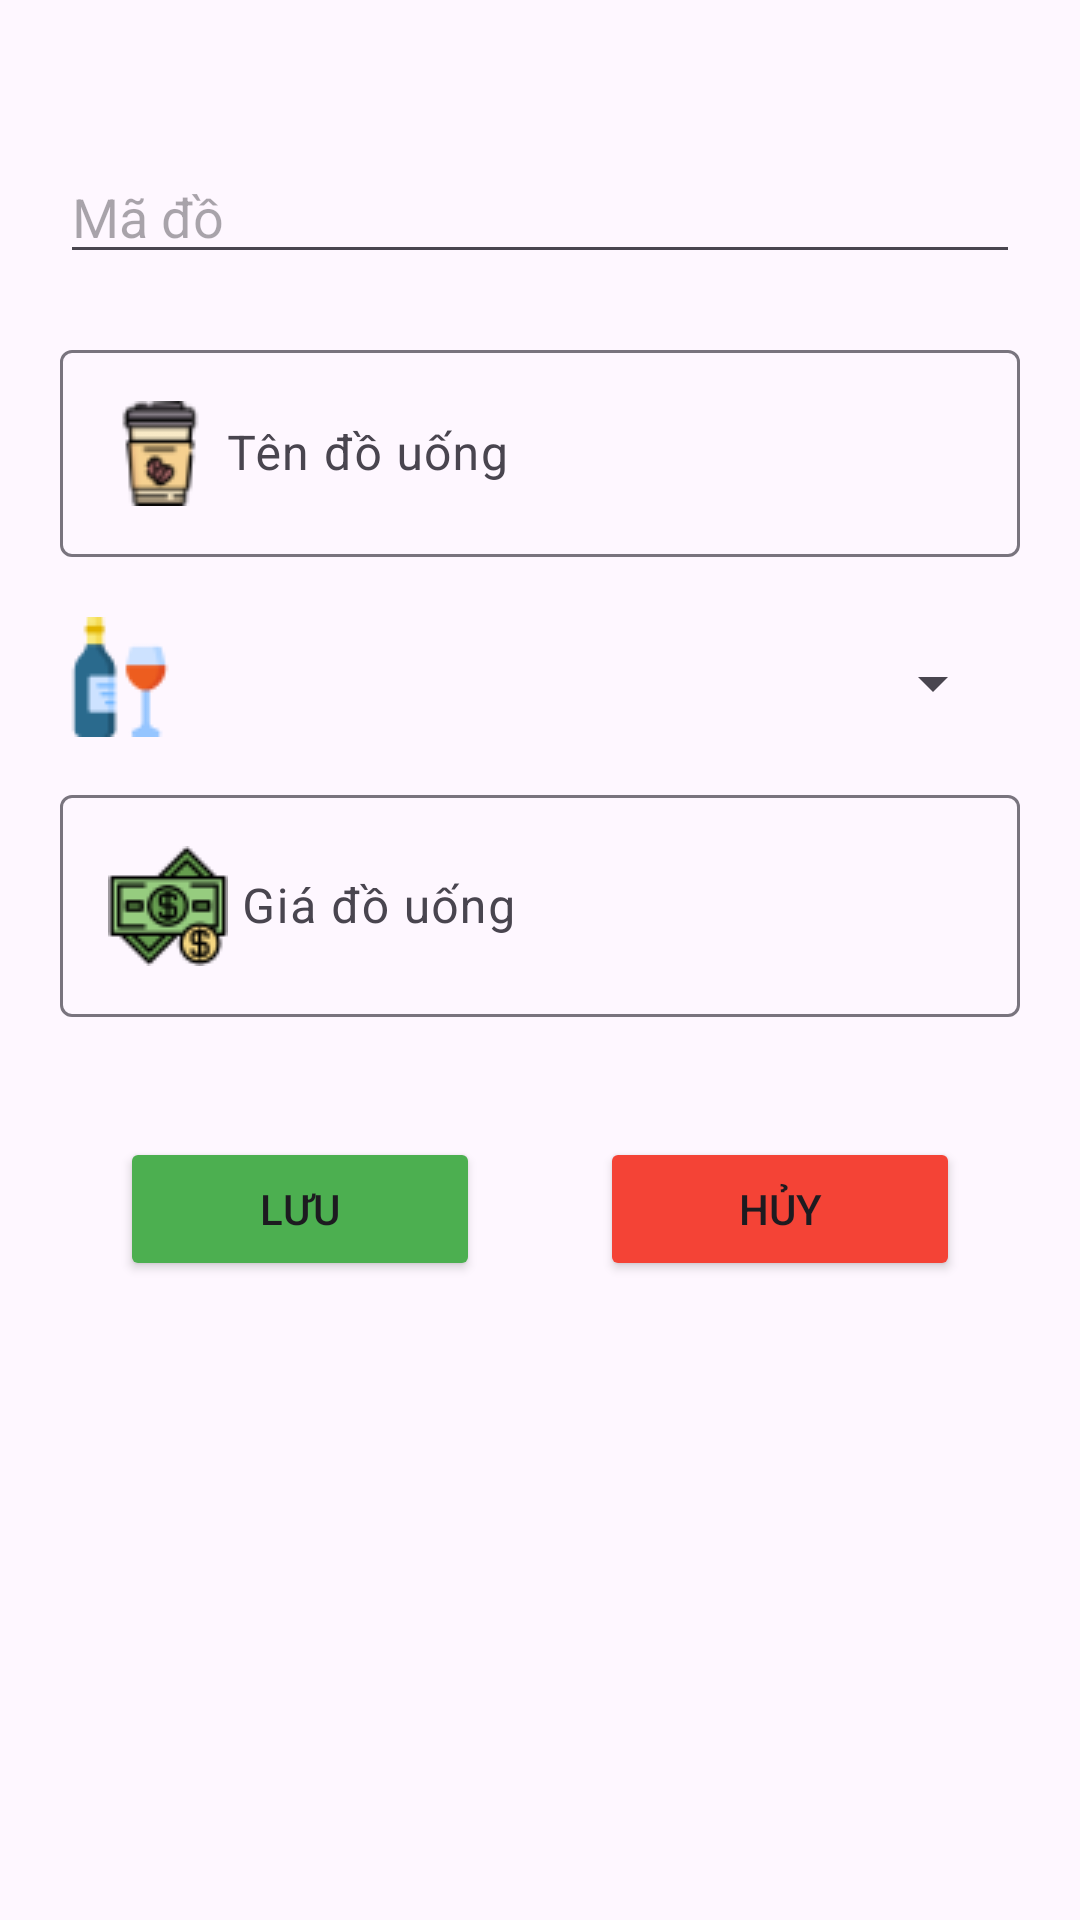

Icons on this 1080x1920 Android screen, each with the point to tap as [x,y]:
icondouuong: [120,677]
